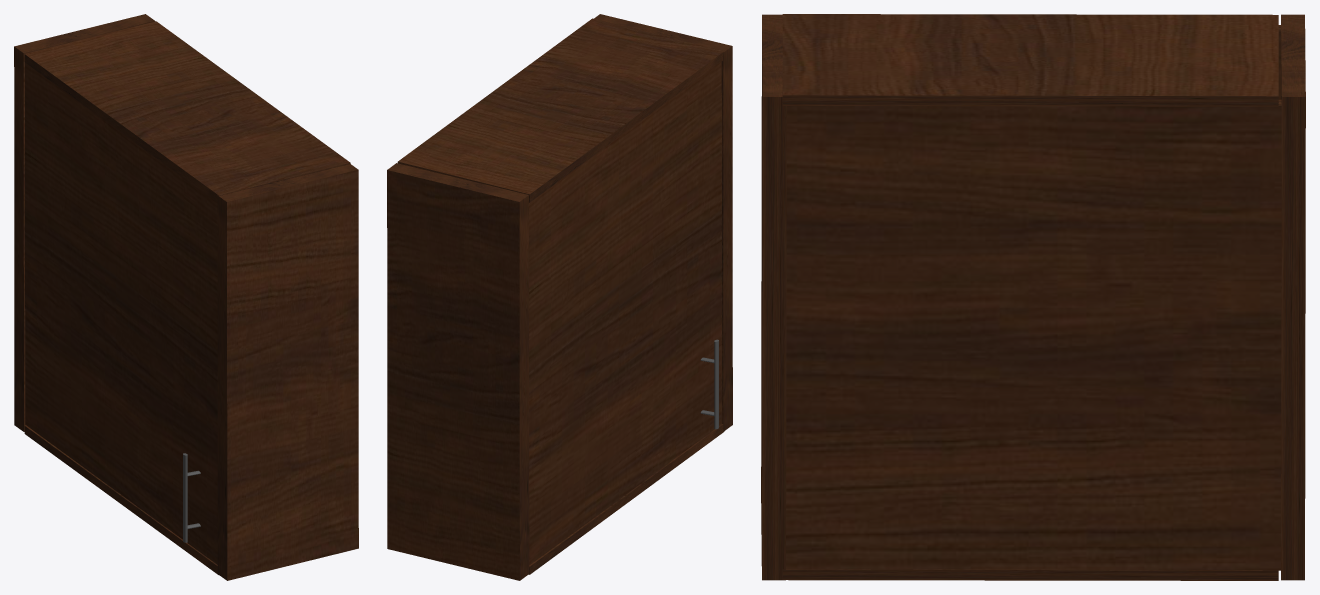
The model's file is armarioCocinaPared3.fbx.
The picture shows the model from 3 angles, left to right: view 1: azimuth 30°, elevation 25°; view 2: azimuth 150°, elevation 25°; view 3: azimuth 270°, elevation 25°; orthographic projection. The views are drawn at different scales.
Parts seen in each view (by area): view 1: armarioCocina3; view 2: armarioCocina3; view 3: armarioCocina3.
Boxes of the visible parts, x1,y1,x2,y2 form: armarioCocina3: (14,14,358,580); armarioCocina3: (387,14,732,580); armarioCocina3: (761,14,1305,580).
Size of the model in its own units: 0.8272 by 2.06 by 2.09.
2 materials, 1 textured.
